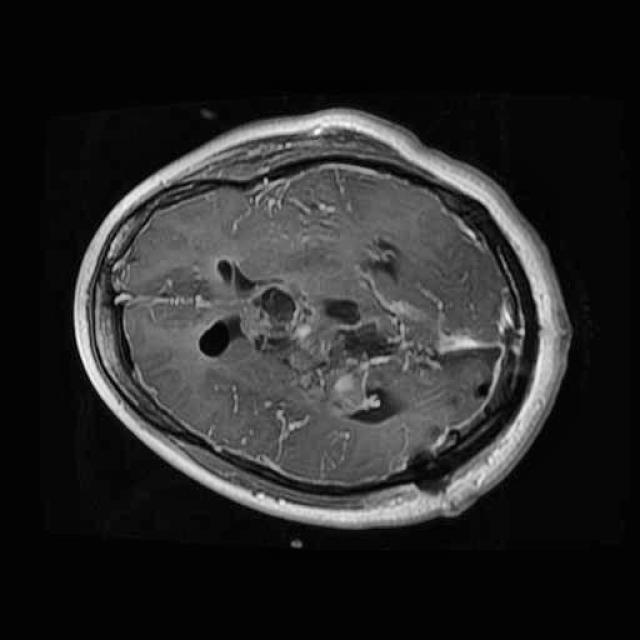Tumor: (230, 272, 381, 423)
